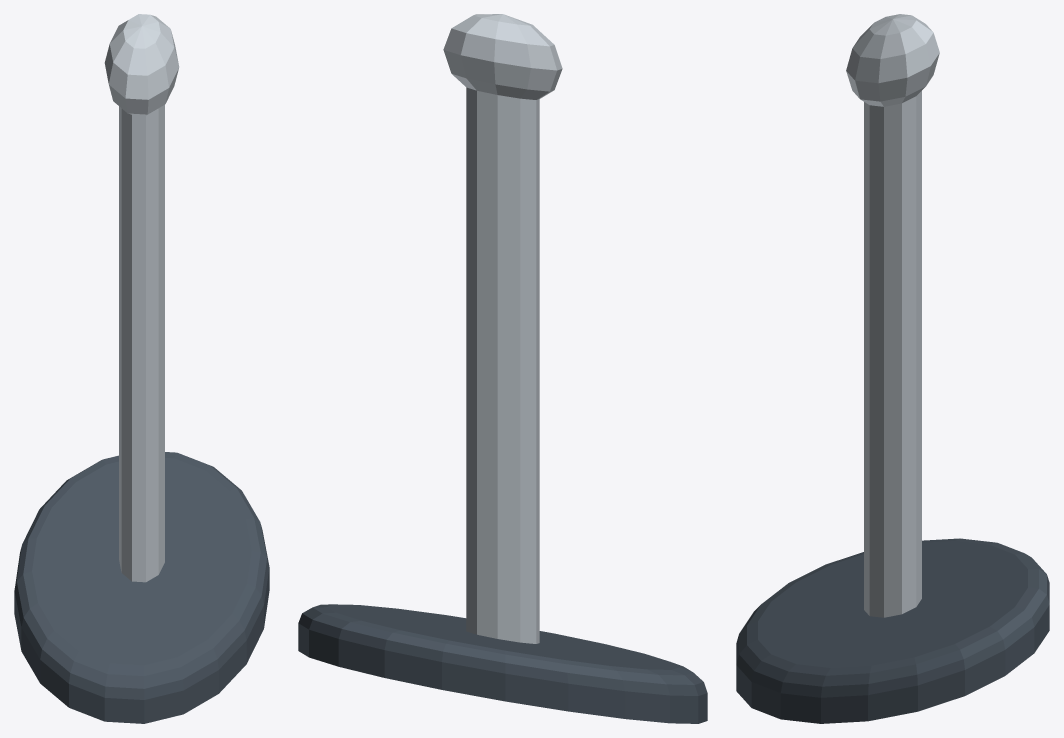
File: Checkpoint_Post.gltf
3 renders of one model, left to right at view 1: azimuth 30°, elevation 25°; view 2: azimuth 150°, elevation 25°; view 3: azimuth 270°, elevation 25°, orthographic. The views are drawn at different scales.
Visible parts, largest first — view 1: Checkpoint_Post_baked; view 2: Checkpoint_Post_baked; view 3: Checkpoint_Post_baked.
Part boxes in pixels (x1=…): Checkpoint_Post_baked: x1=14, y1=14, x2=269, y2=723; Checkpoint_Post_baked: x1=298, y1=14, x2=707, y2=723; Checkpoint_Post_baked: x1=736, y1=14, x2=1049, y2=723.
Bounding box in the file's own units: 0.4719 × 1.06 × 0.4346.
